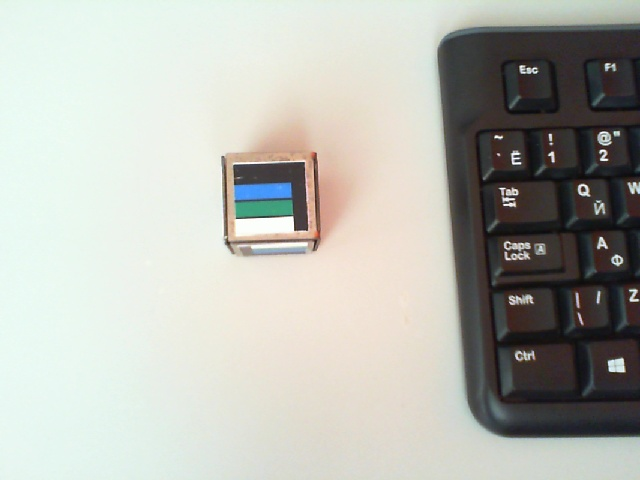square: (234, 162, 308, 233)
